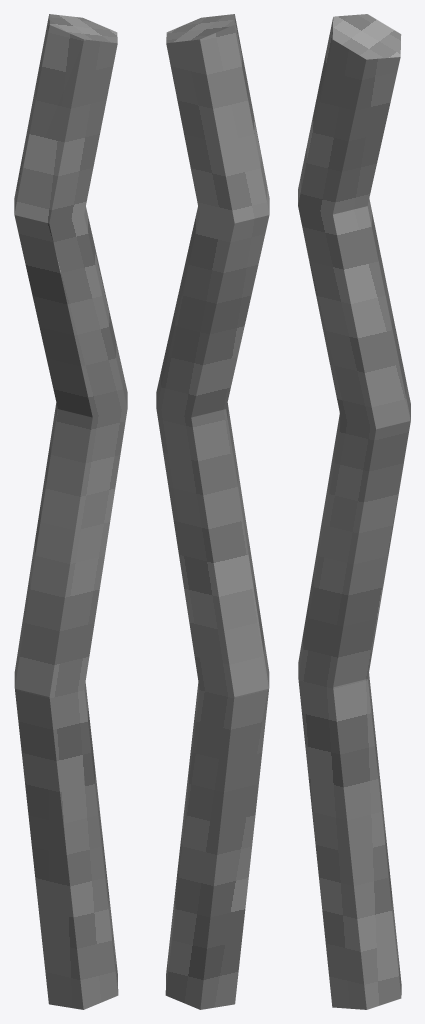
Rendered from Wire.glb.
3 views of the same model, side by side, from view 1: azimuth 30°, elevation 25°; view 2: azimuth 150°, elevation 25°; view 3: azimuth 330°, elevation 25° (orthographic).
Parts seen in each view (by area): view 1: Wire; view 2: Wire; view 3: Wire.
Part boxes in pixels (x1,y1,x2,y2): Wire: (14,14,127,1009); Wire: (156,14,269,1009); Wire: (298,14,410,1009).
Size of the model in its own units: 0.1214 by 1 by 0.0648.
Materials: 1 (1 with a texture image).
